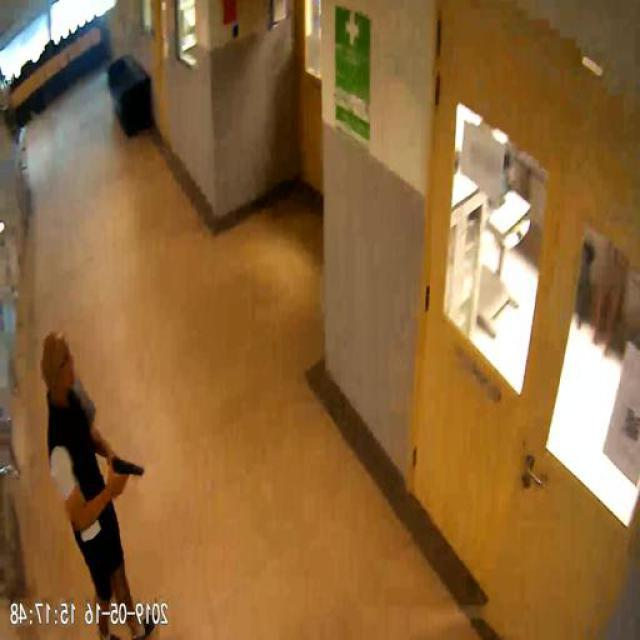Gun: (112, 454, 146, 495)
